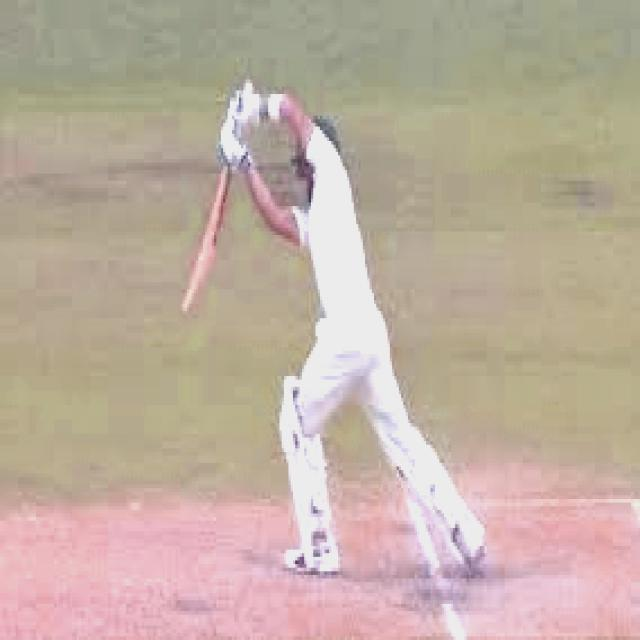bat: (167, 174, 231, 323)
toe: (169, 296, 198, 320)
